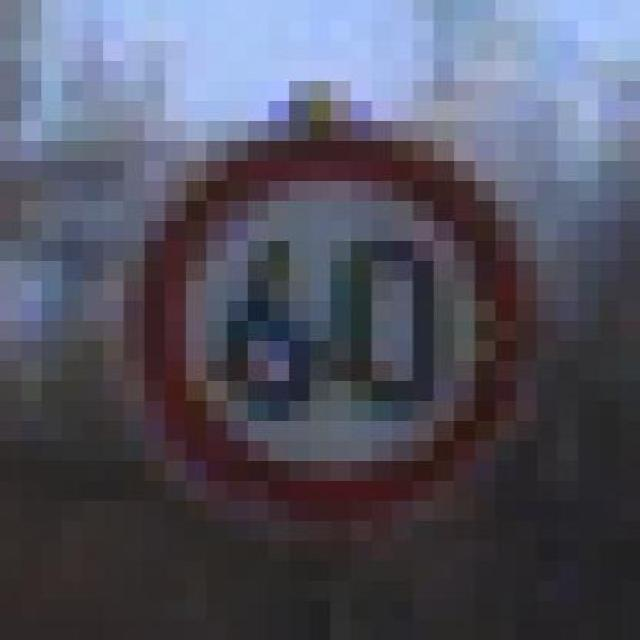forb_speed_over_60: (132, 136, 523, 527)
